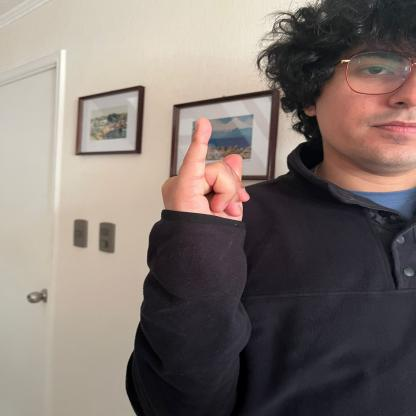I: (152, 112, 255, 251)
